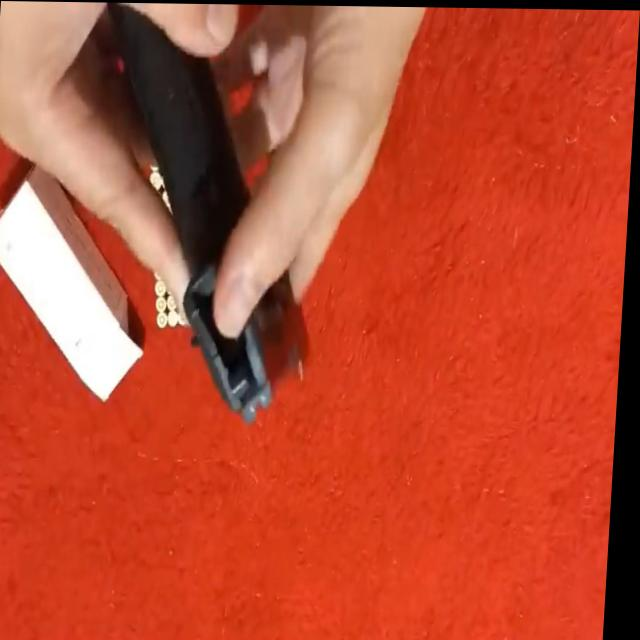handgun: (123, 40, 329, 415)
